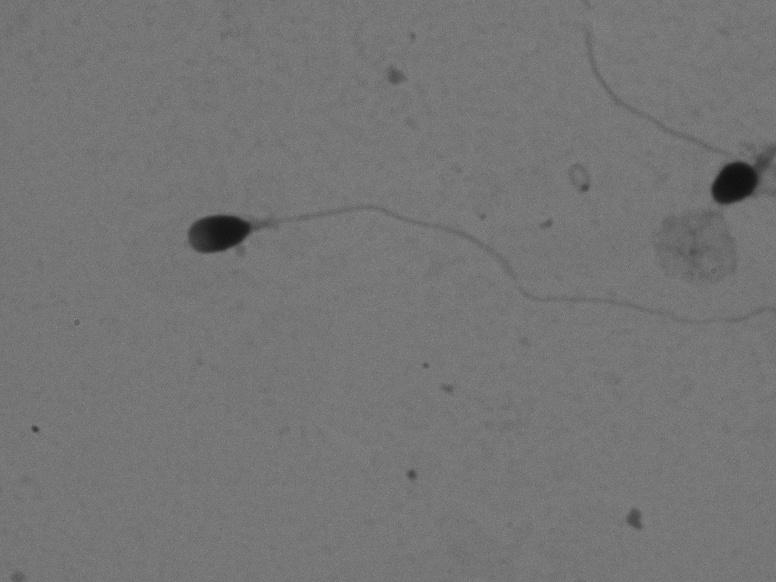Abnormal: (561, 19, 765, 228)
Normal: (164, 199, 760, 375)
